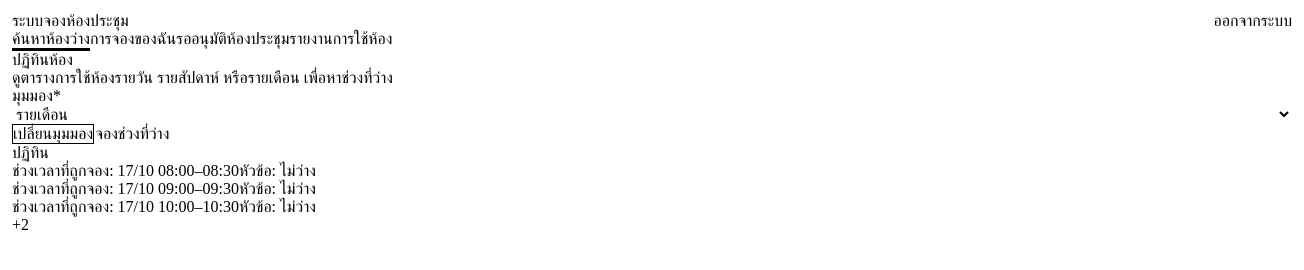
Scenario: FE-mrr-002 room calendar page › overflow: a month-view day with five bookings shows three and +2, which opens the rest
Check: the number of elements with test id "ui-mrr-005-ent-007-start-at" is 3, box [118,162,239,179]; [118,180,239,197]; [118,198,239,215]
Click the button named "ดูอีก 2 รายการ": (20, 225) [12,216,29,234]
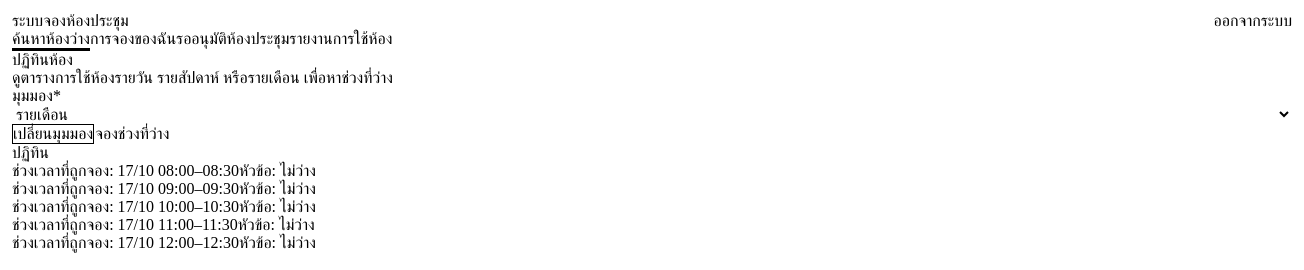
Check: the number of elements with test id "ui-mrr-005-ent-007-start-at" is 5, box [118,162,239,179]; [118,180,239,197]; [118,198,239,215]; [118,216,238,233]; [118,234,239,251]
